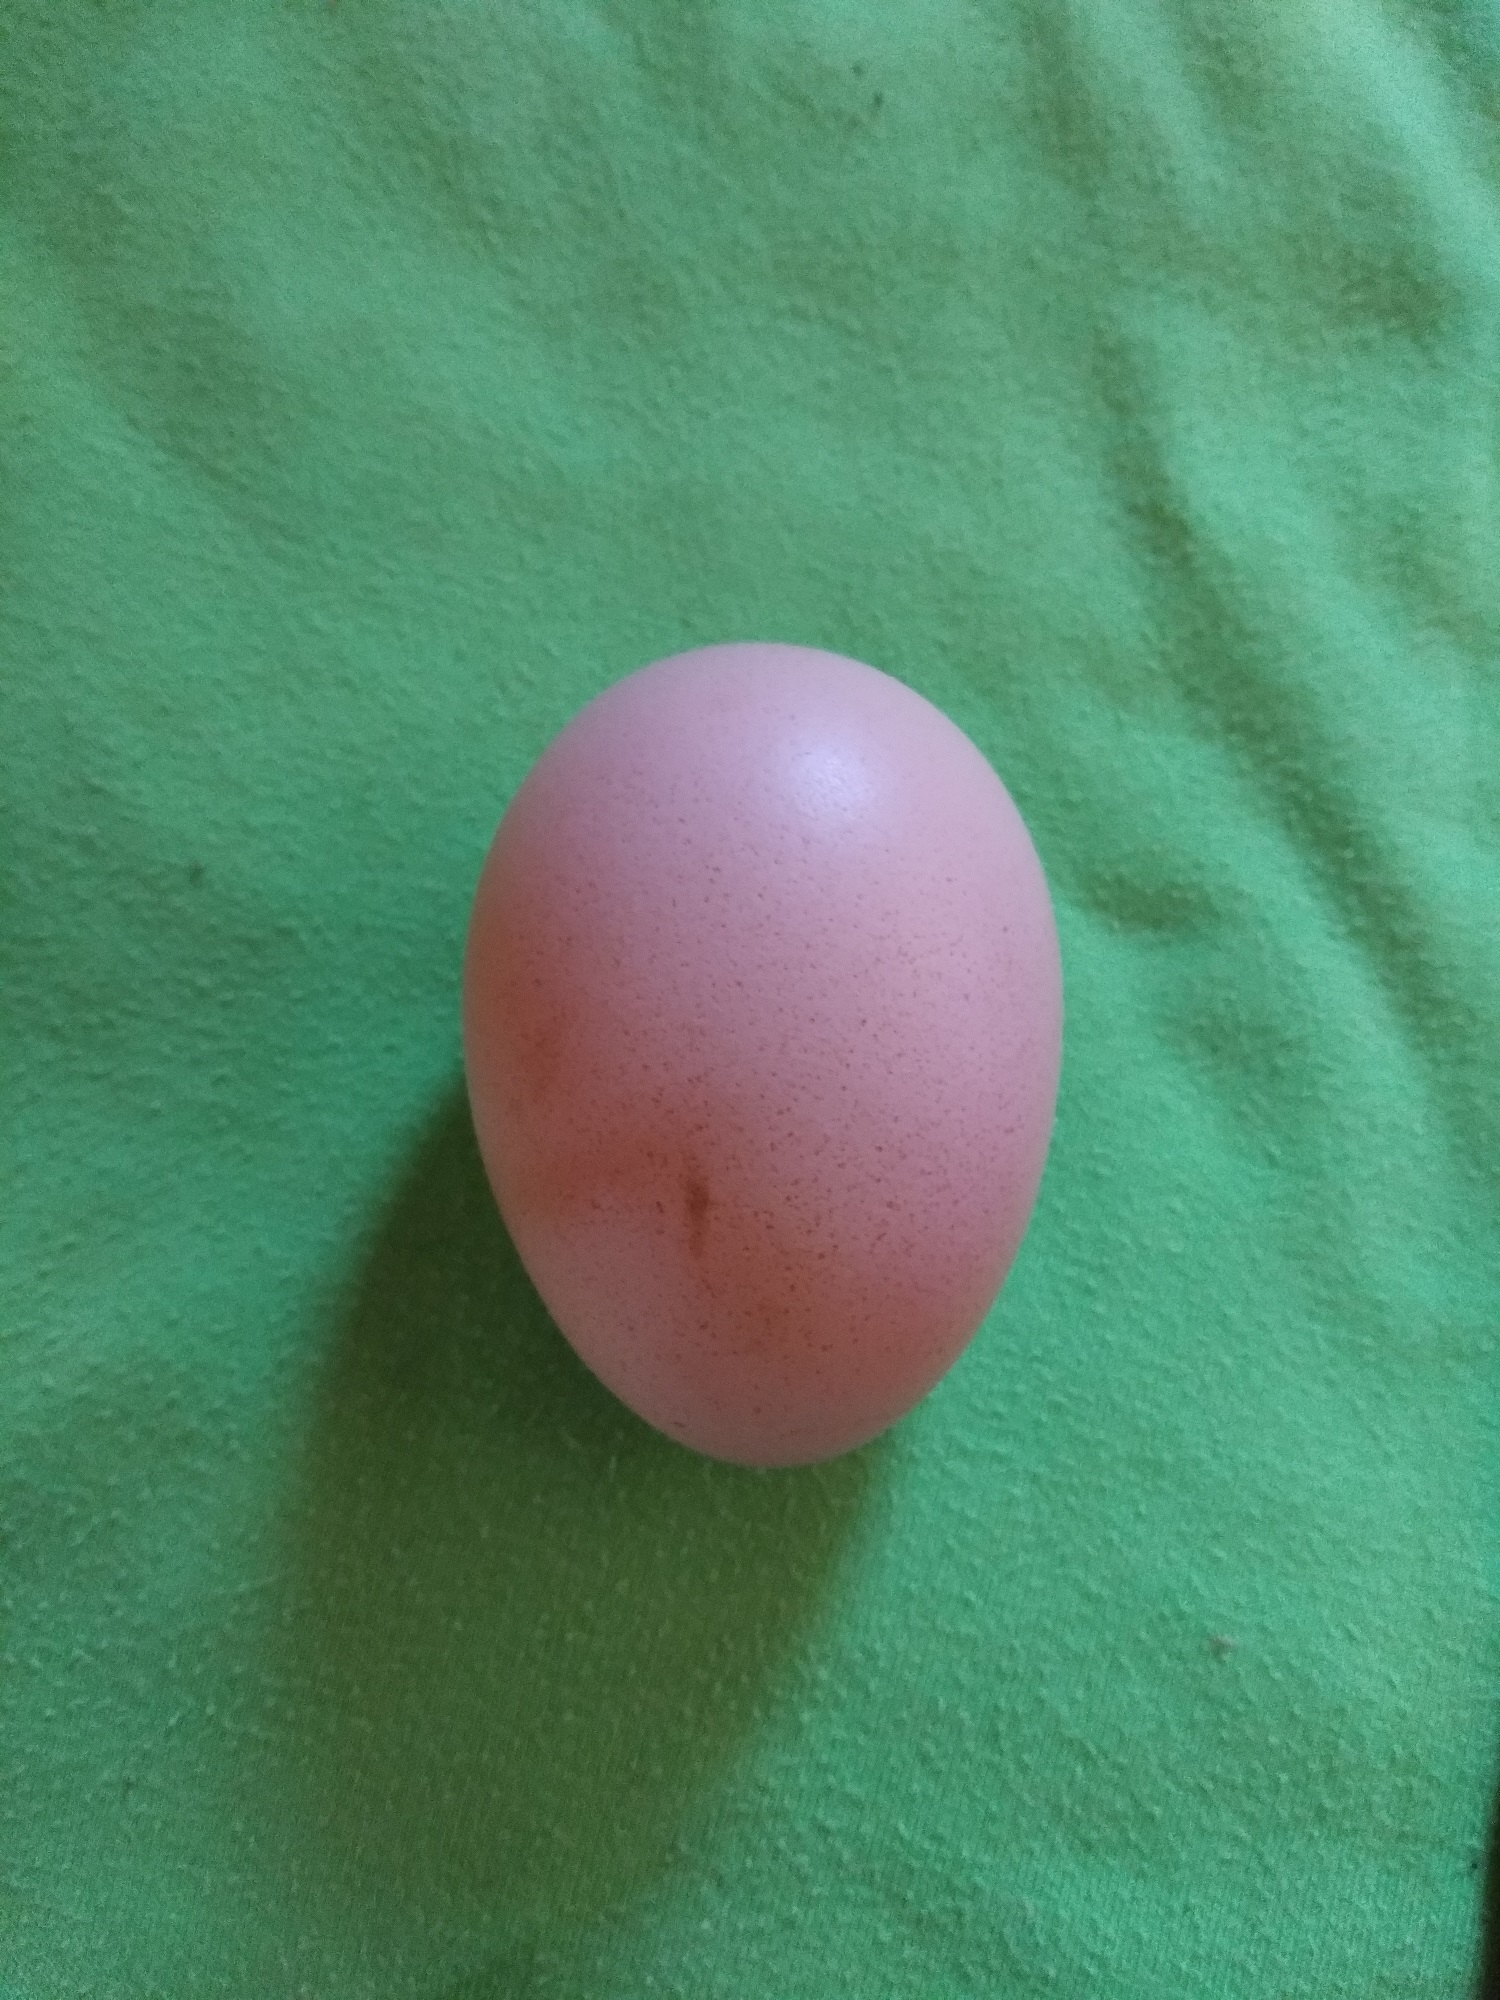Female: (454, 631, 1070, 1485)
